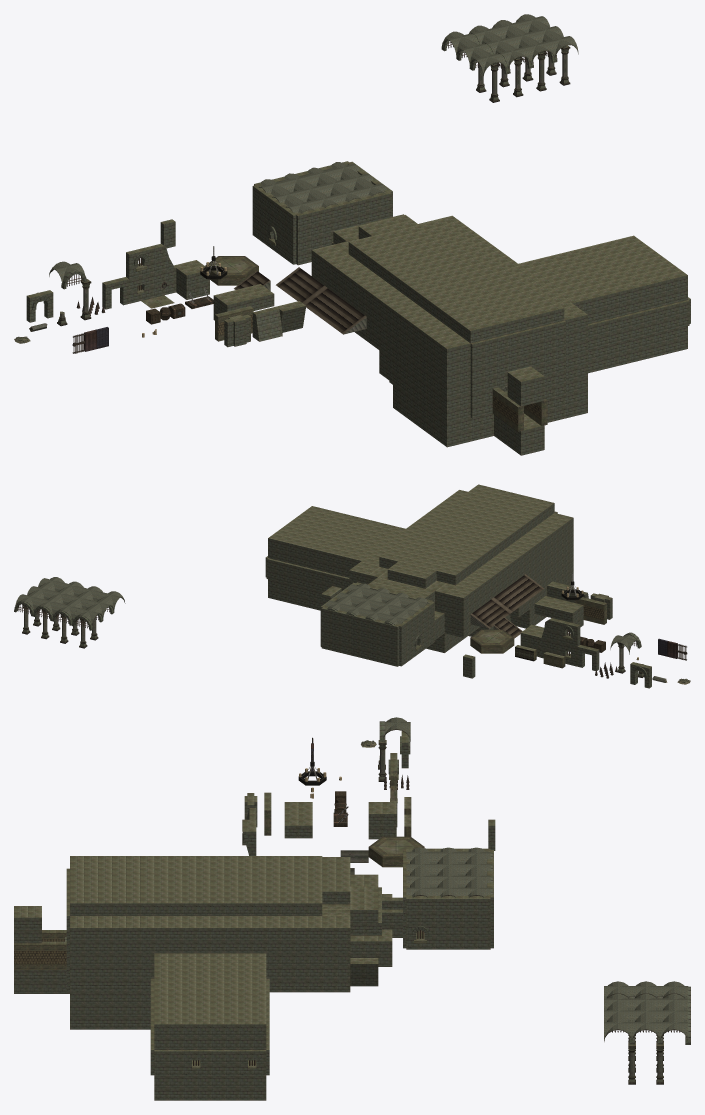
Rendered from dungeon.gltf.
The picture shows the model from 3 angles, top to bottom: view 1: azimuth 30°, elevation 25°; view 2: azimuth 150°, elevation 25°; view 3: azimuth 270°, elevation 25°; orthographic projection. The views are drawn at different scales.
Visible parts, largest first — view 1: Cube.052, Cube.293, Cube.268, Cube.042, Cube.295, Cylinder.018, Cube.065, Cube.272, Cube.267, Cube.271, Cube.373, Cube.379 (+23 smaller); view 2: Cube.052, Cylinder.018, Cube.179, Cube.065, Cube.376, Cube.384, Cube.382, Cube.388, Cube.053, Cube.178, Cube.154, Cube.162 (+46 smaller); view 3: Cylinder.018, Cube.183, Cube.184, Cube.185, Cube.187, Cube.211, Cube.239, Cube.240, Cube.242, Cube.385, Cube.386, Cube.387 (+49 smaller).
Part boxes in pixels (x1,y1,x2,y2): Cube.052: [304, 287, 366, 334]; Cube.293: [507, 366, 544, 406]; Cube.268: [433, 333, 470, 373]; Cube.042: [173, 260, 209, 299]; Cube.295: [507, 416, 544, 455]; Cylinder.018: [205, 256, 258, 285]; Cube.065: [276, 267, 325, 303]; Cube.272: [433, 389, 470, 422]; Cube.267: [433, 364, 470, 398]; Cube.271: [433, 413, 470, 447]; Cube.373: [581, 282, 617, 322]; Cube.379: [628, 271, 664, 311]; Cube.052: [493, 574, 544, 612]; Cylinder.018: [470, 629, 514, 653]; Cube.179: [444, 585, 474, 617]; Cube.065: [470, 598, 511, 628]; Cube.376: [325, 544, 354, 576]; Cube.384: [287, 534, 316, 566]; Cube.382: [306, 539, 335, 571]; Cube.388: [268, 530, 297, 562]; Cube.053: [553, 600, 583, 632]; Cube.178: [444, 610, 474, 637]; Cube.154: [406, 566, 436, 588]; Cube.162: [436, 562, 466, 585]; Cylinder.018: [368, 836, 424, 867]; Cube.183: [294, 916, 322, 953]; Cube.184: [266, 916, 294, 953]; Cube.185: [238, 916, 266, 953]; Cube.187: [322, 916, 350, 953]; Cube.211: [210, 916, 238, 953]; Cube.239: [182, 916, 210, 953]; Cube.240: [154, 916, 182, 953]; Cube.242: [126, 916, 154, 953]; Cube.385: [154, 1012, 182, 1049]; Cube.386: [182, 1012, 210, 1049]; Cube.387: [210, 1012, 238, 1049].
Size of the model in its own units: 116 by 23.4 by 96.6.
Materials: 5 (5 with a texture image).
